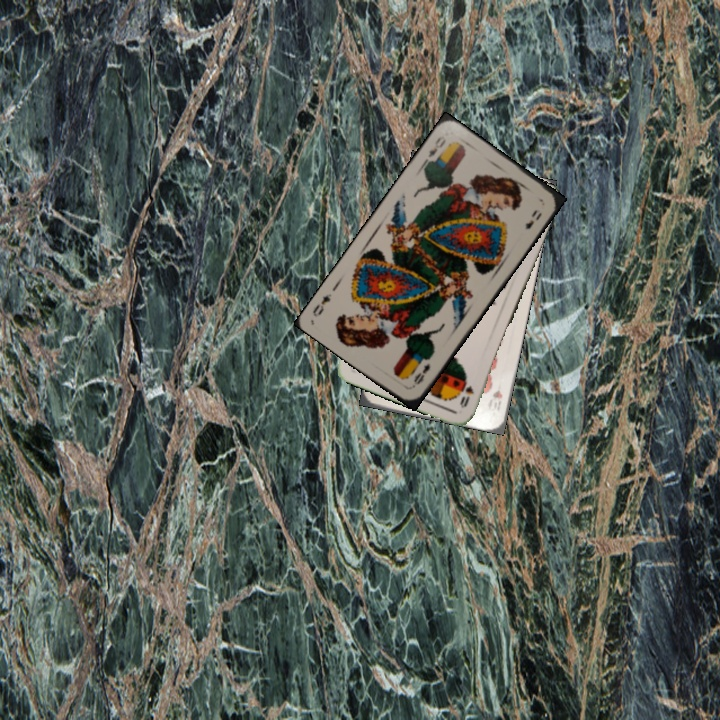EO: (420, 131, 449, 167), (408, 359, 433, 390)
H10: (484, 386, 505, 413)
SO: (456, 381, 477, 411)
